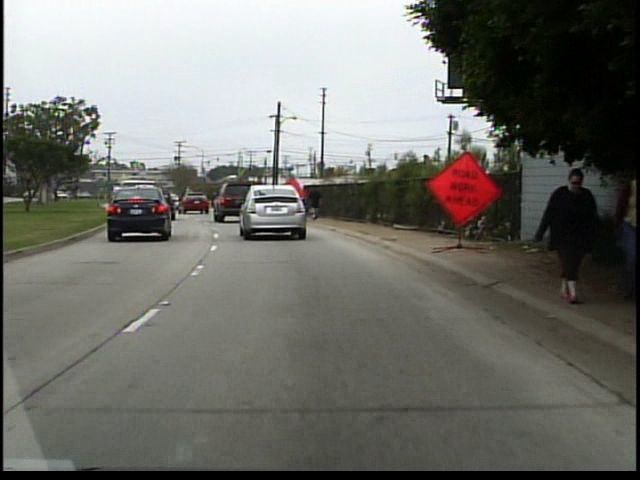person: (527, 158, 601, 310), (303, 179, 326, 222)
